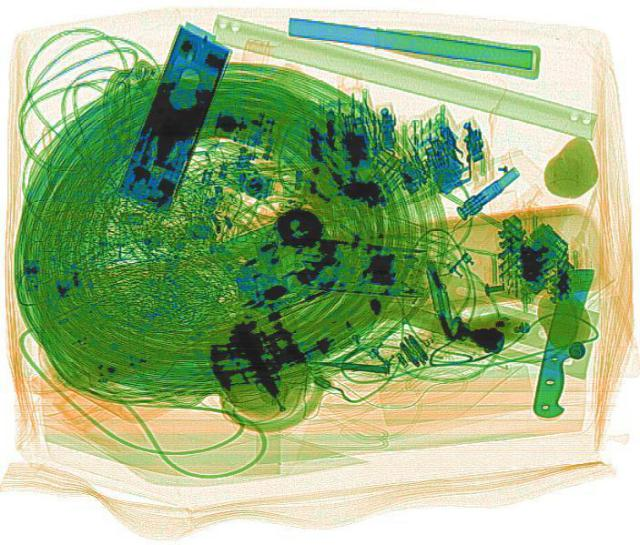Knife: (531, 264, 593, 417)
